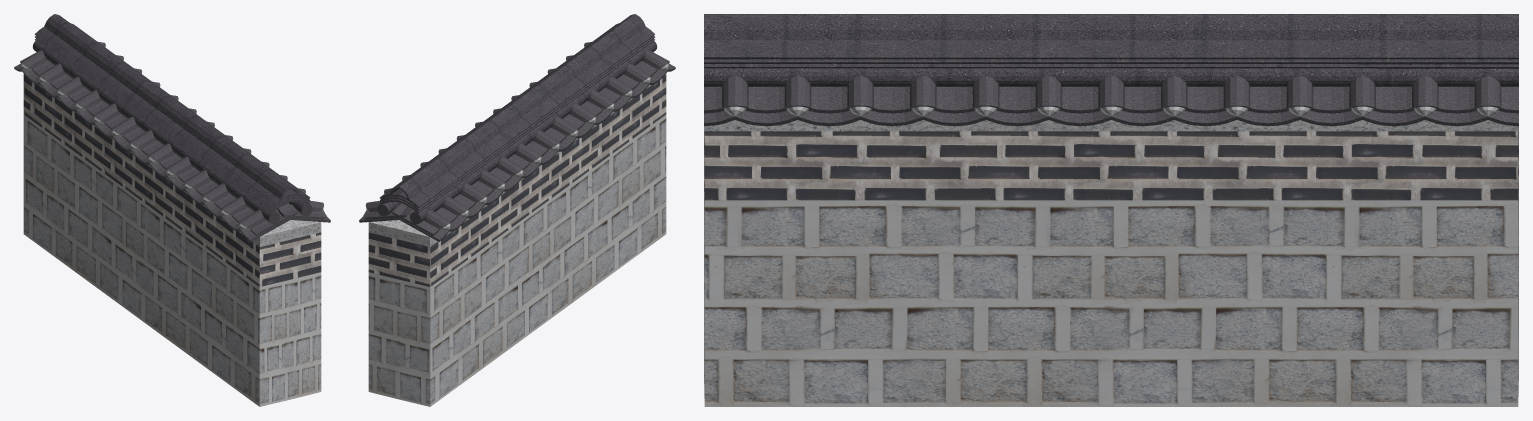
Rendered from SM_StraightStronewall_1.fbx.
3 renders of one model, left to right at view 1: azimuth 30°, elevation 25°; view 2: azimuth 150°, elevation 25°; view 3: azimuth 270°, elevation 25°, orthographic. The views are drawn at different scales.
Visible parts, largest first — view 1: SM_StraightStronewall_1; view 2: SM_StraightStronewall_1; view 3: SM_StraightStronewall_1.
Part boxes in pixels (<box>): SM_StraightStronewall_1: <box>14,14,330,406</box>; SM_StraightStronewall_1: <box>359,14,675,406</box>; SM_StraightStronewall_1: <box>704,14,1518,406</box>.
Size of the model in its own units: 85.78 by 421 by 209.
Materials: 4 (4 with a texture image).
